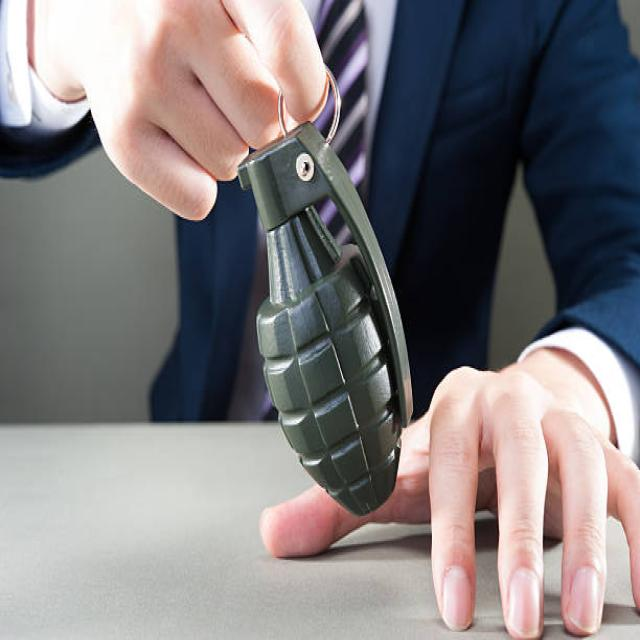grenade: (234, 58, 421, 517)
